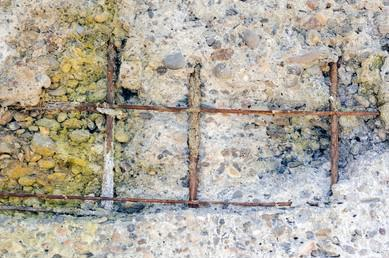Exposed reinforcement: (6, 99, 381, 117), (1, 192, 293, 207), (101, 40, 120, 211), (184, 63, 201, 201), (1, 204, 133, 218), (329, 62, 339, 187)
Spalling: (1, 20, 389, 222)
